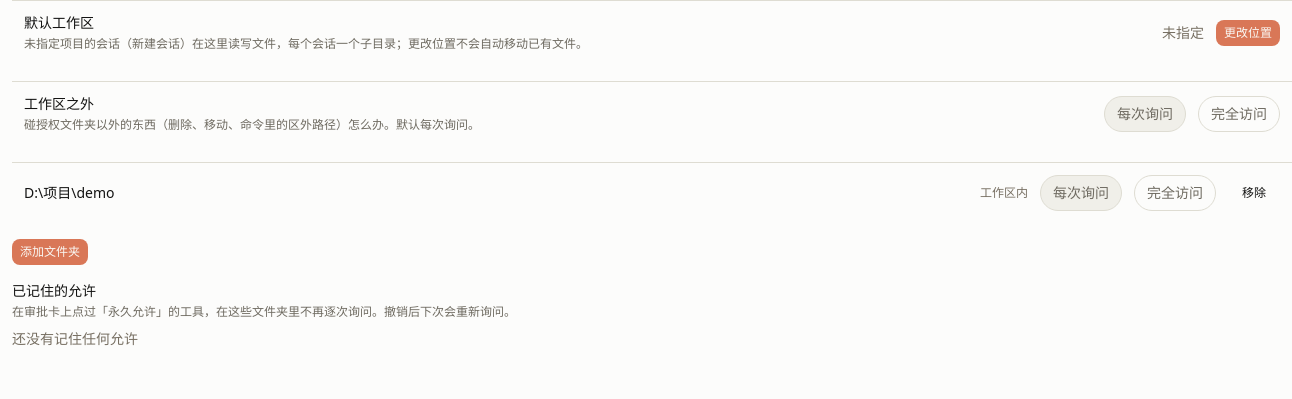
工作区组 · 移除 › 移除失败：那一行还在，行内报错
This screenshot has width=1292, height=399.
What coordinates should you click on to do the following:
click the button with test id "workspace-0-remove"
I would click on:
 (1254, 193)
Its box is [1228,180,1280,206].
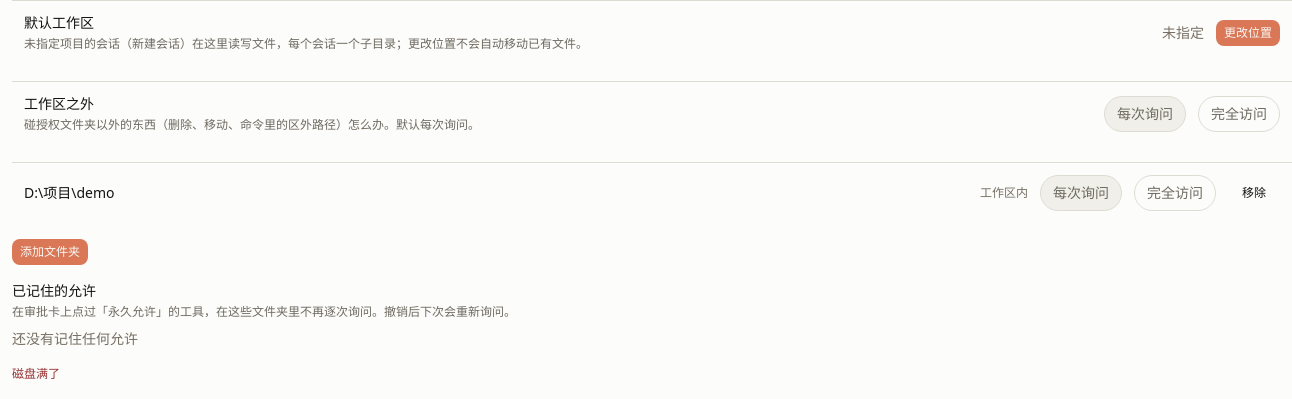
Check: the element with test id "workspace-0" shows "D:\\项目\\demo", box [24,183,114,202]
Check: the text with test id "workspace-error" reads "磁盘满了", box [12,365,60,382]
